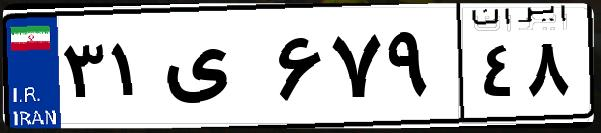1: (110, 28, 158, 98)
3: (57, 26, 110, 100)
4: (475, 38, 525, 113)
6: (270, 28, 330, 110)
7: (330, 28, 385, 110)
8: (525, 38, 570, 115)
9: (385, 28, 445, 110)
ی: (158, 20, 270, 120)
